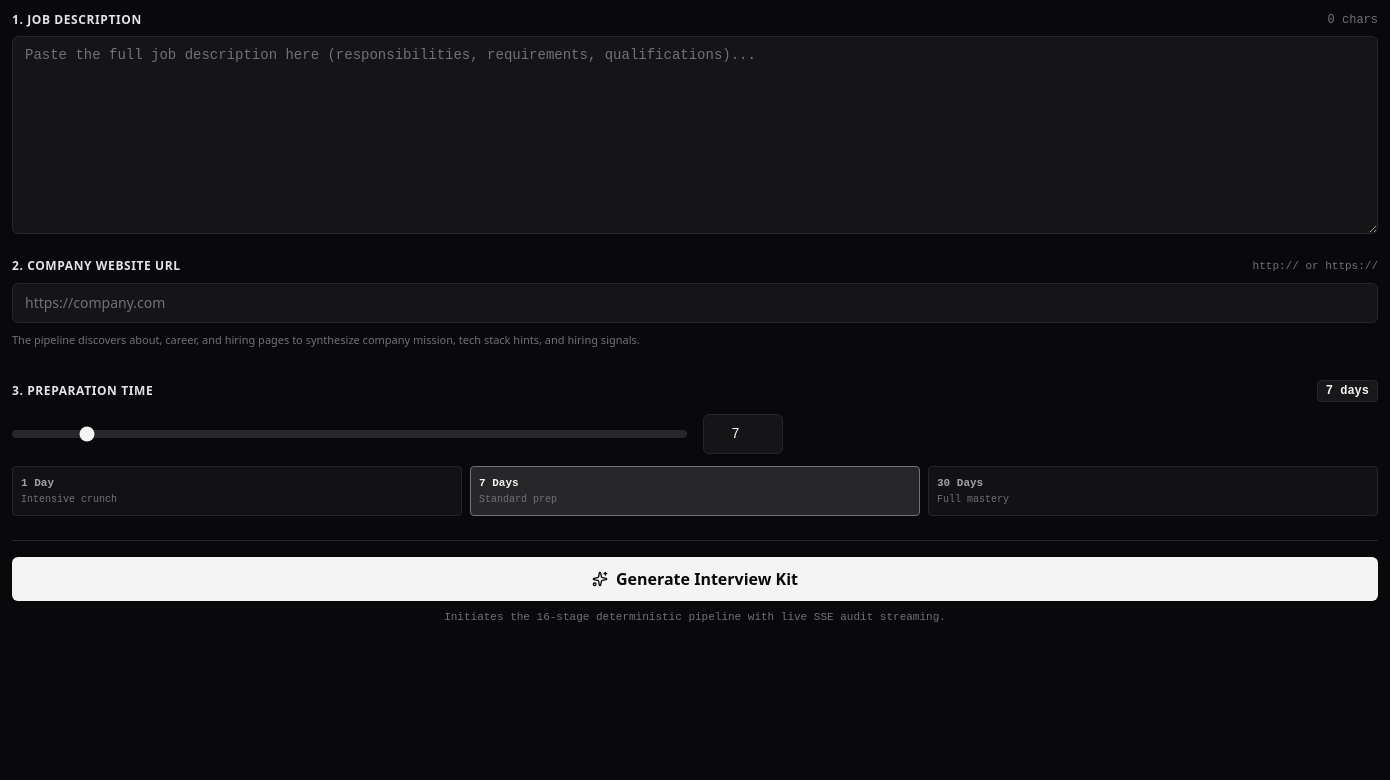
CreateKitForm › validates URL format if invalid scheme is provided
Replace the text in the text box labelled "1. Job Description" with "We are seeking a senior engineer to design distributed systems and lead our architecture." at (695, 135), box 12,36 -> 1378,234
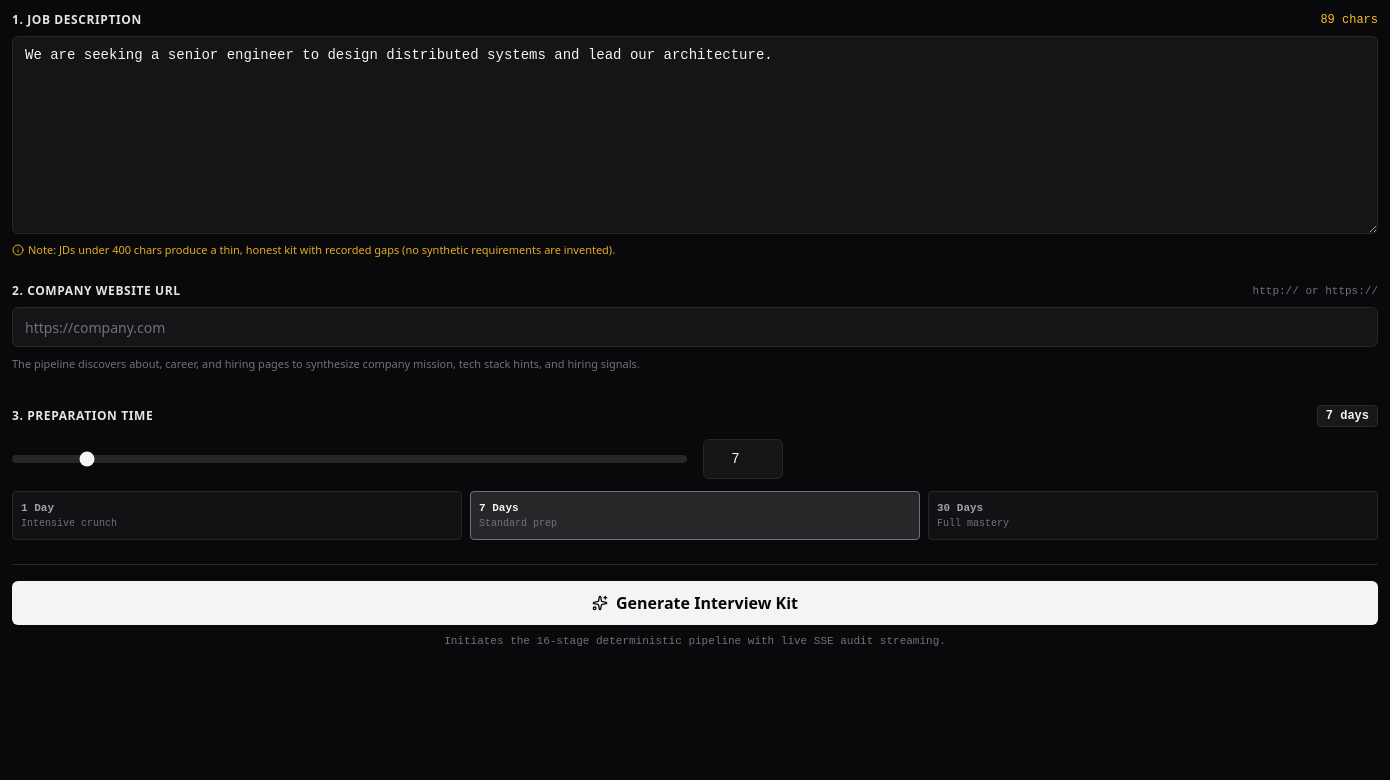
Type "not-a-valid-url" into the field labelled "2. Company Website URL" at (695, 327), box 12,307 -> 1378,347
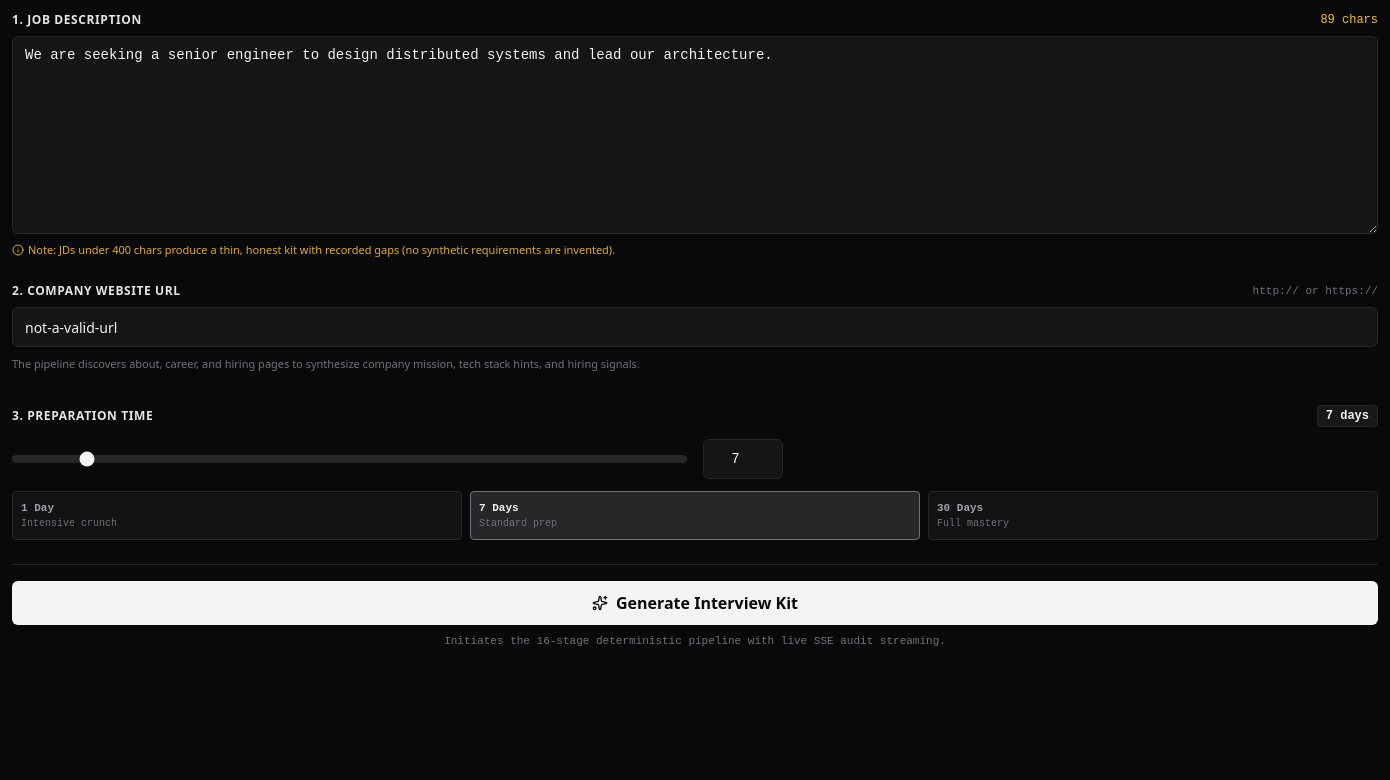
Click the button "Generate Interview Kit" at (695, 603), box 12,581 -> 1378,625
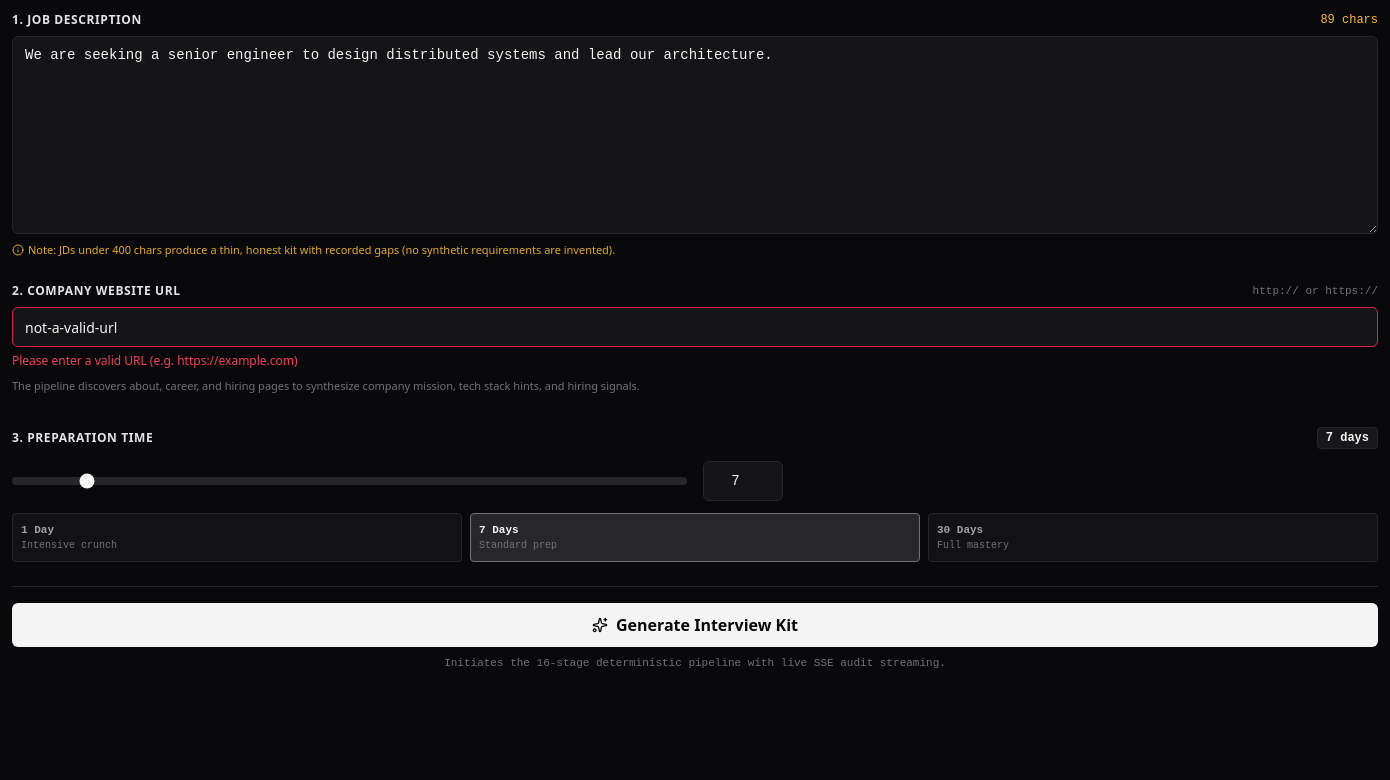
expect the text "Please enter a valid URL (e.g. https://example.com)" is shown: met, box 12,352 -> 298,369
